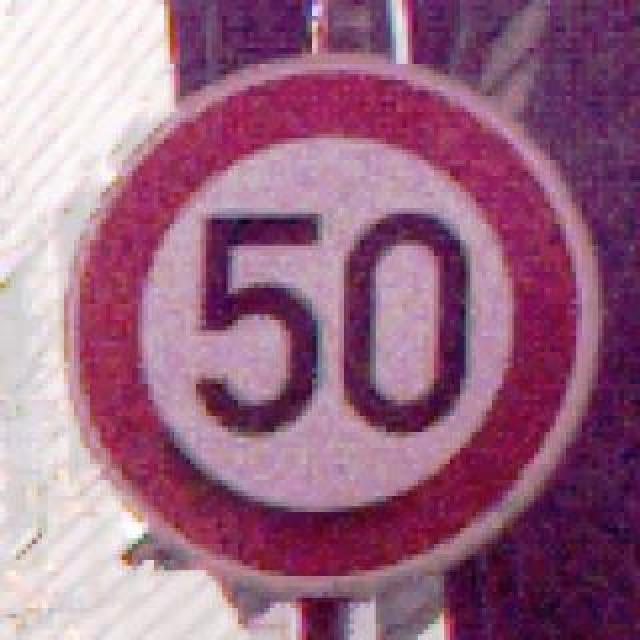50 kph: (60, 48, 594, 576)
